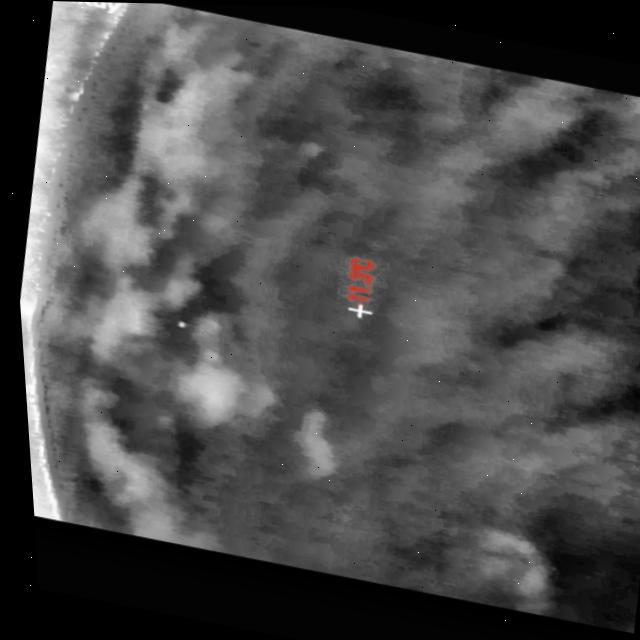drone: (169, 319, 184, 328)
